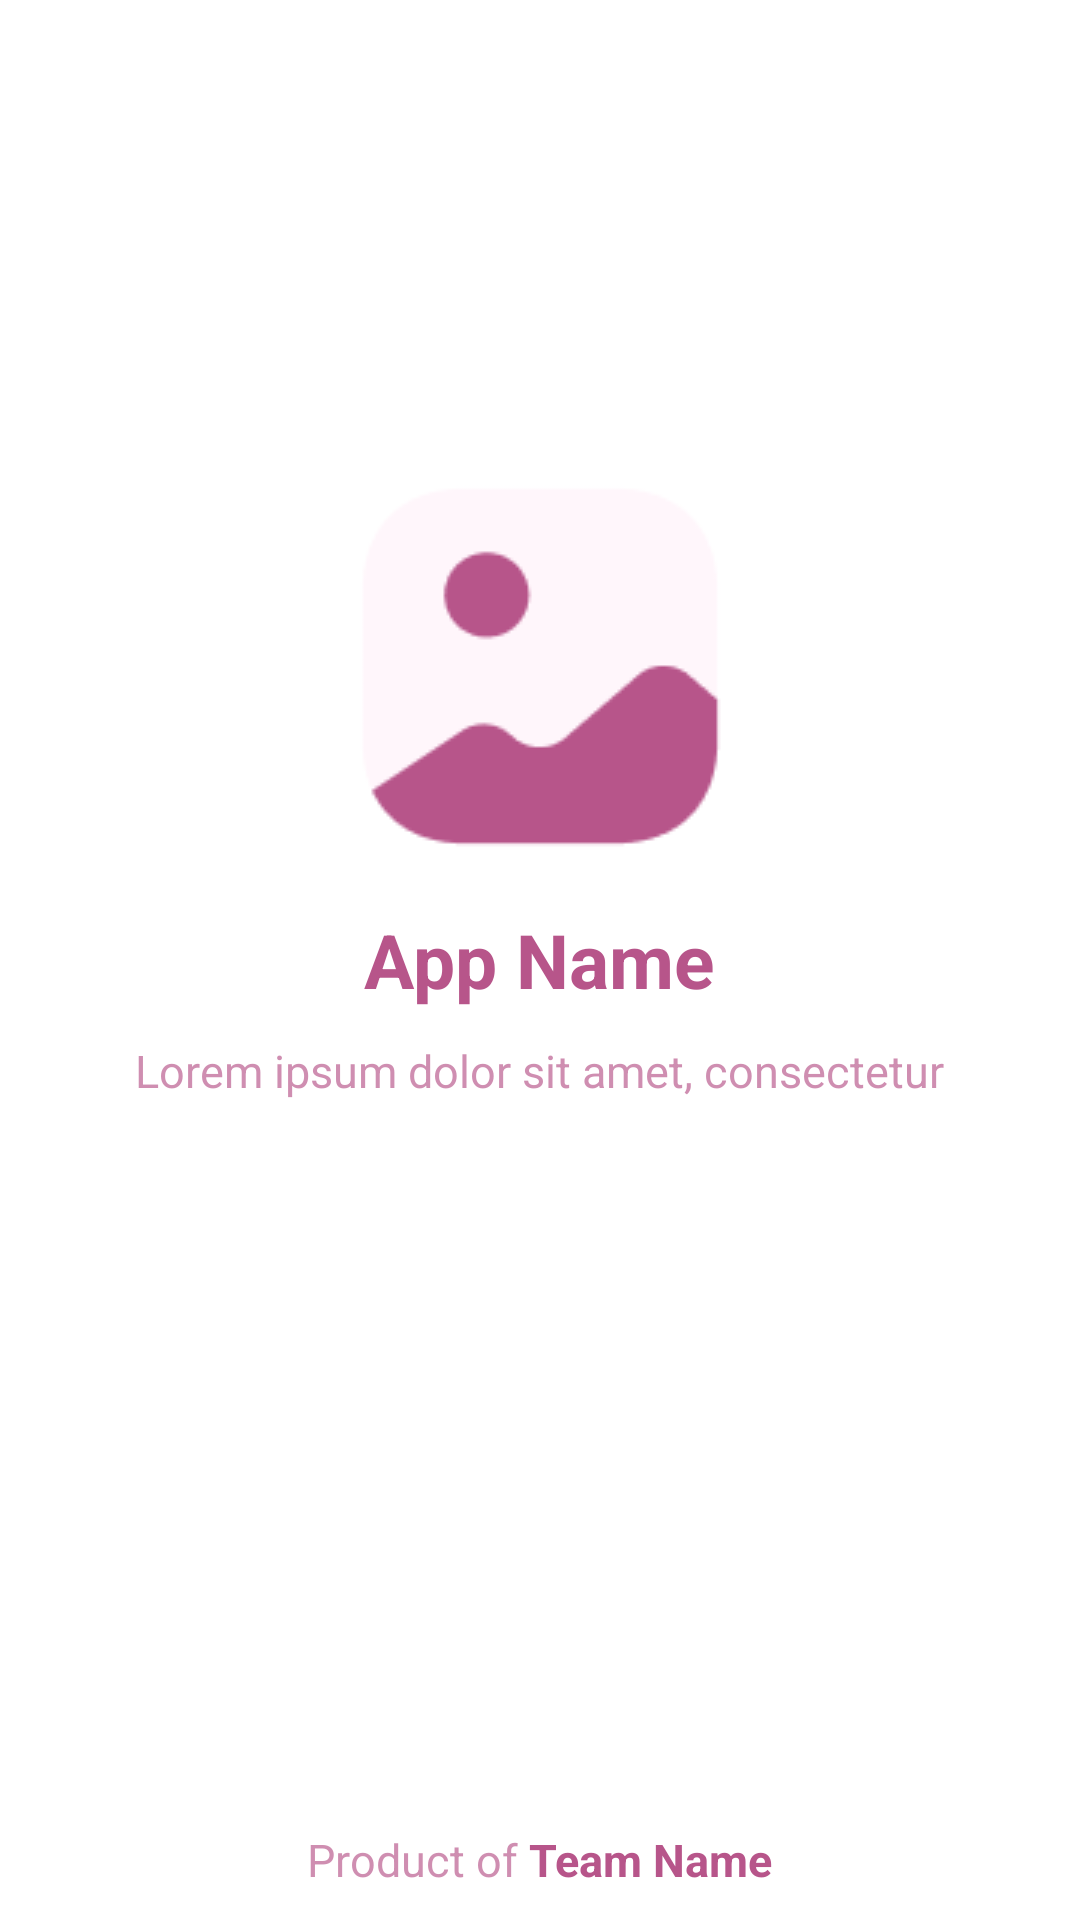

Icon click points for this 1080×1920 phone screenshot, format [x,y]:
picture loading page: [542,668]
